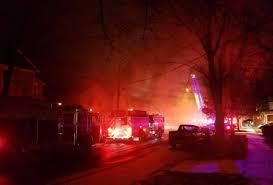fire: (106, 124, 132, 139)
